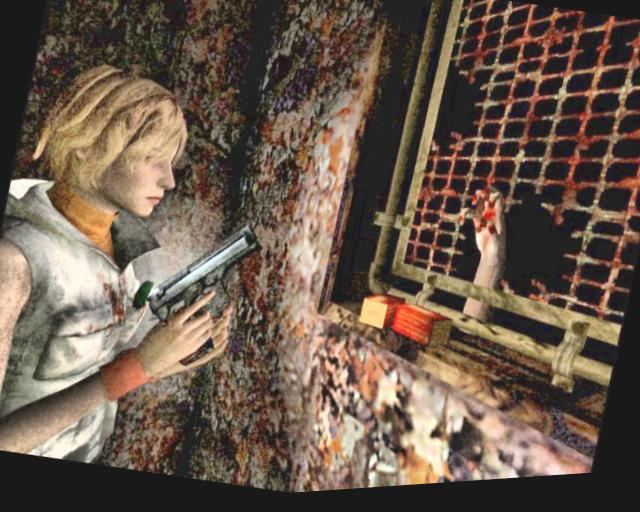pistol: (132, 215, 266, 373)
